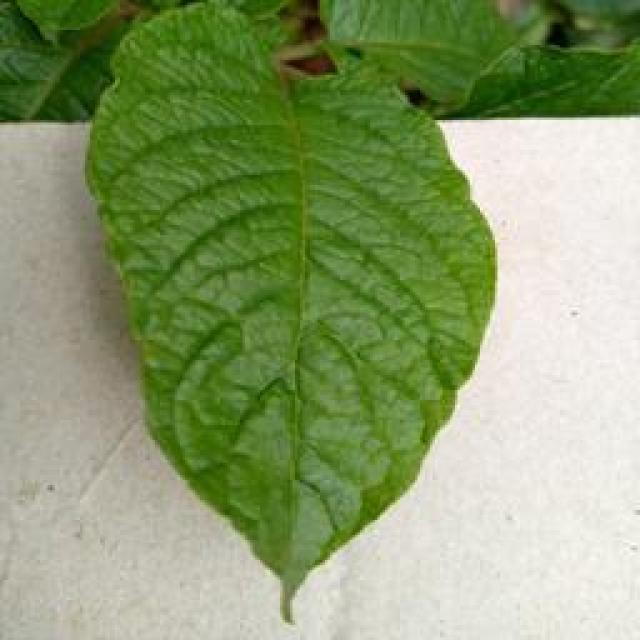healthy: (79, 0, 502, 622)
